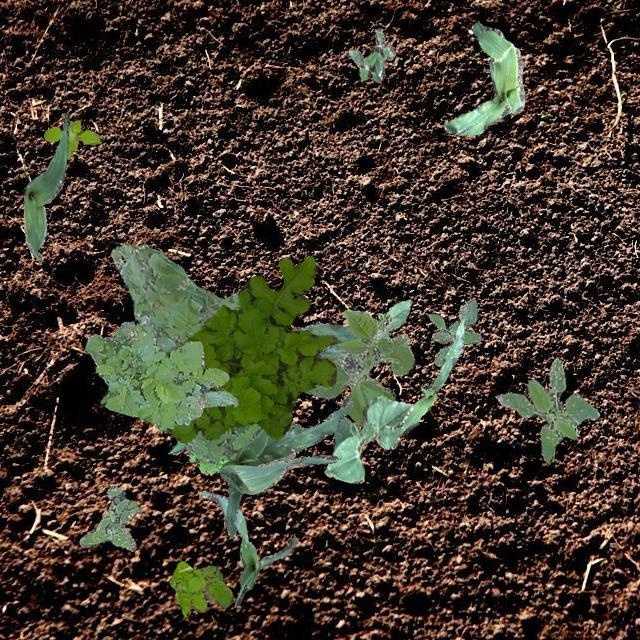crop: (218, 394, 352, 536), (297, 308, 413, 424), (198, 490, 296, 606), (442, 21, 524, 134), (324, 394, 412, 482), (399, 318, 463, 434), (22, 112, 68, 260), (374, 298, 410, 338)
weed: (110, 243, 312, 464), (165, 255, 338, 442), (85, 324, 236, 428), (496, 356, 598, 462), (78, 486, 140, 550), (156, 424, 228, 474), (168, 560, 232, 616), (428, 298, 480, 366), (348, 28, 394, 82), (42, 120, 98, 158)
